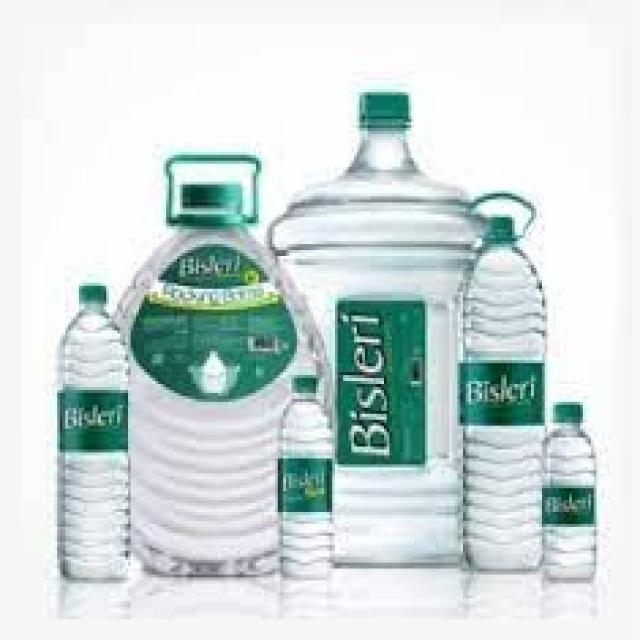bottle: (57, 112, 625, 630)
